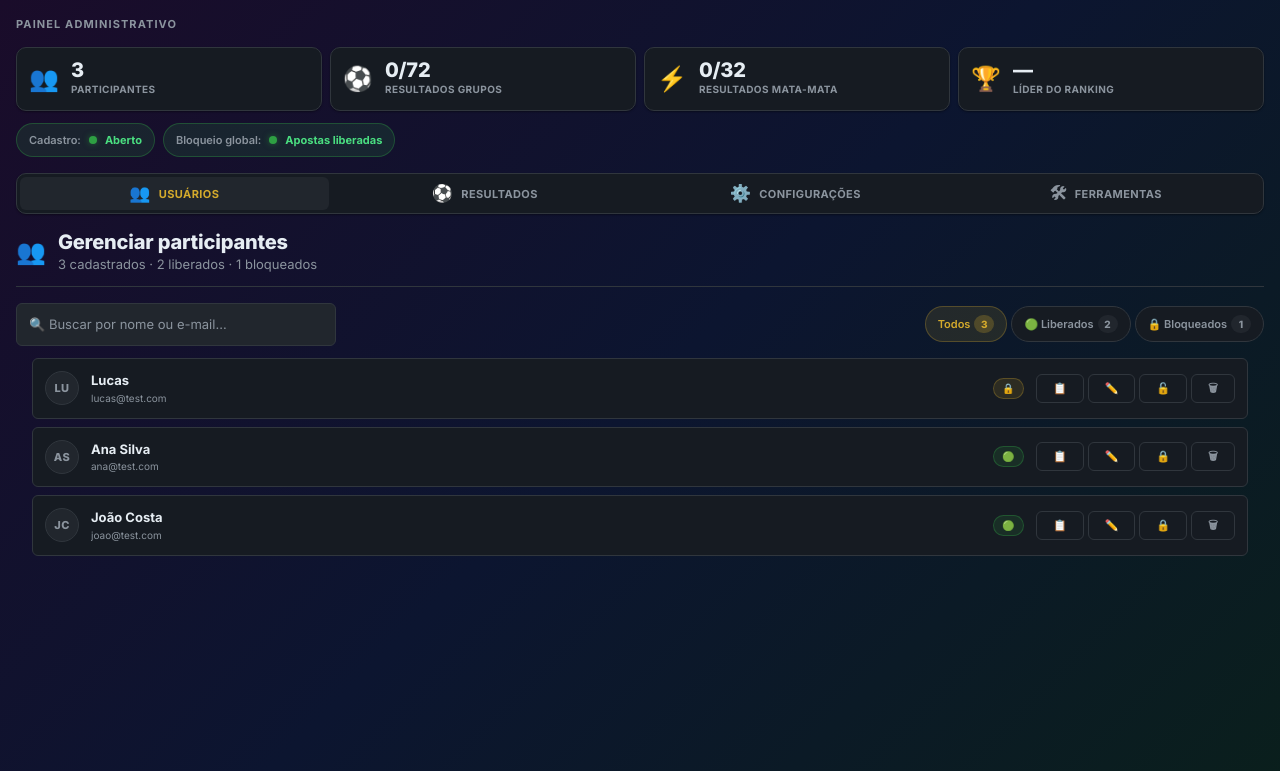
Test: AdminScreen — Usuários tab › modal shows user name in header
Step 1. Click the button named "Ver apostas" → coordinates (1060, 388), box [1036,374,1084,403]
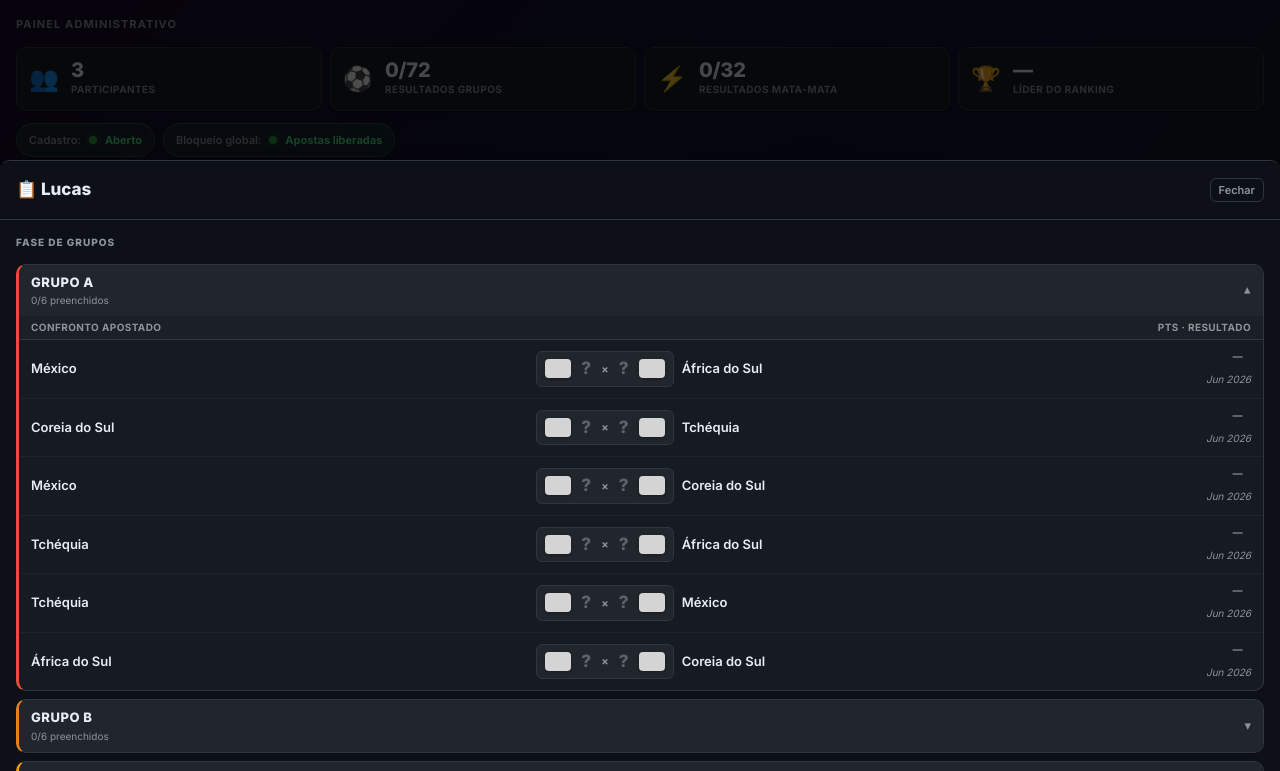
Expected: the text "📋 Lucas" is shown, [16,177,91,202]
